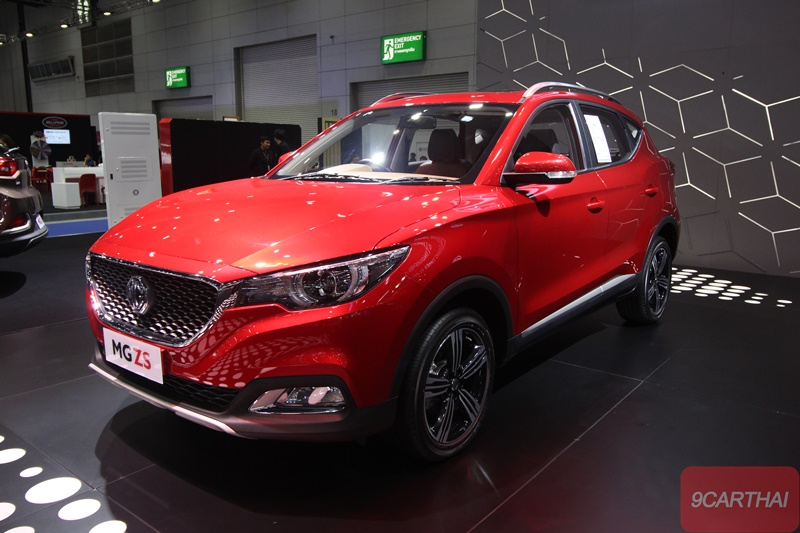pickup: (83, 84, 680, 462)
